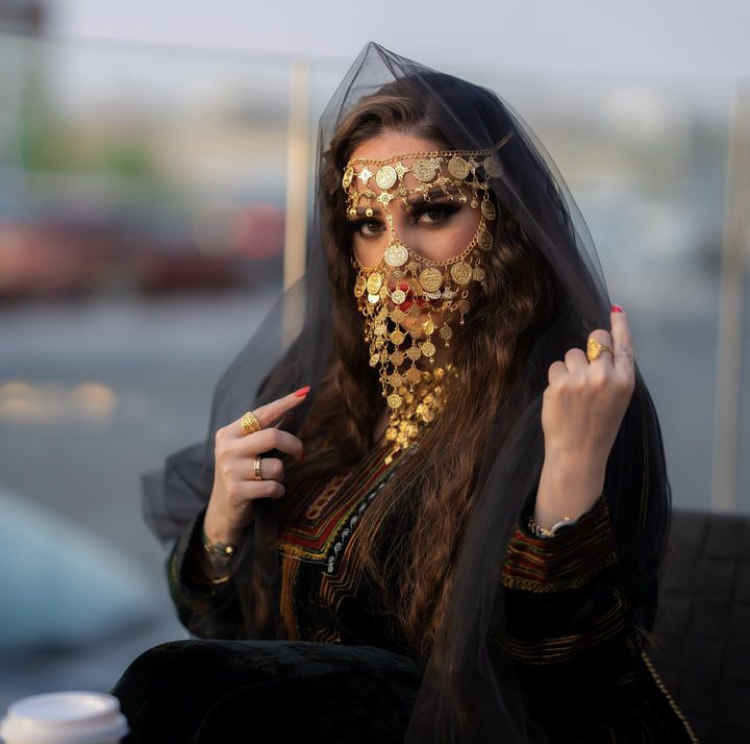Saudi_Founding_Day: (117, 40, 680, 744)
